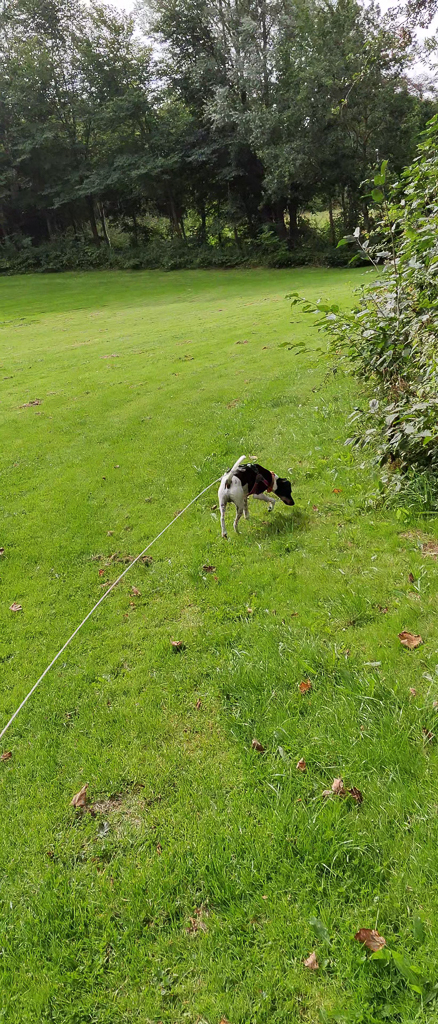Dog: (209, 446, 304, 547)
